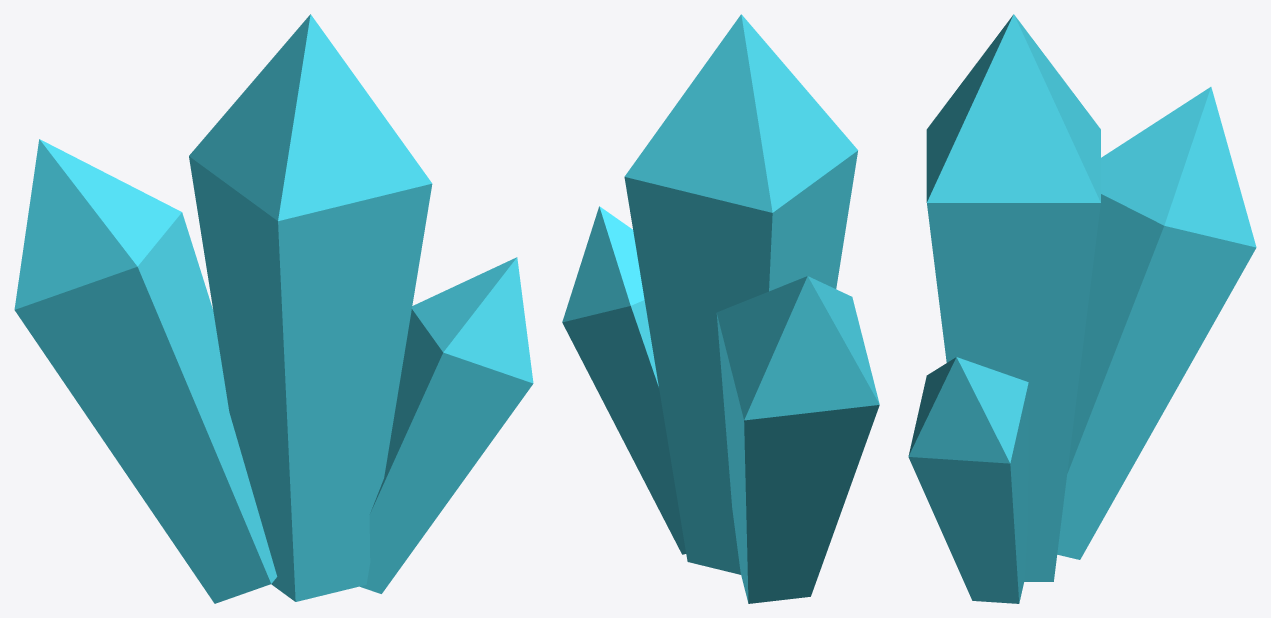
File: crystal2.fbx
3 renders of one model, left to right at view 1: azimuth 30°, elevation 25°; view 2: azimuth 150°, elevation 25°; view 3: azimuth 270°, elevation 25°, orthographic. The views are drawn at different scales.
Visible parts, largest first — view 1: crystal1.001; view 2: crystal1.001; view 3: crystal1.001.
Boxes of the visible parts, box(x1,y1,x2,y2) form: crystal1.001: box(14, 14, 533, 603); crystal1.001: box(562, 14, 879, 603); crystal1.001: box(908, 14, 1256, 603).
Size of the model in its own units: 148 by 200 by 112.
